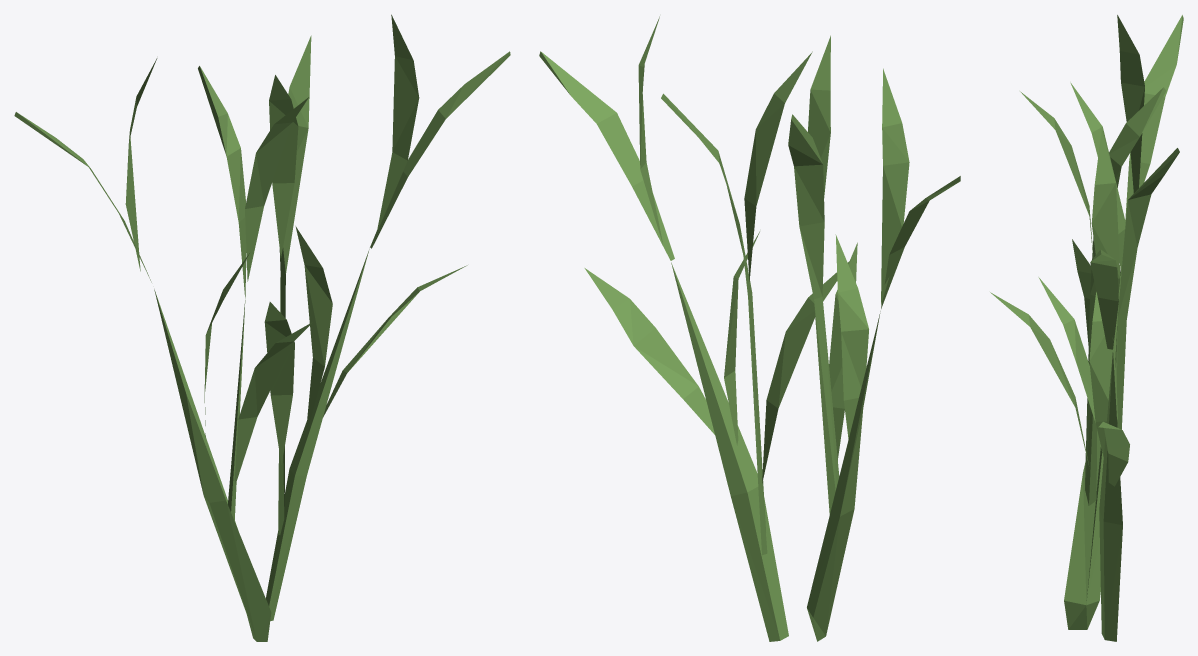
The model's file is plant_rice_1.glb.
3 views of the same model, side by side, from view 1: azimuth 30°, elevation 25°; view 2: azimuth 150°, elevation 25°; view 3: azimuth 270°, elevation 25° (orthographic). The views are drawn at different scales.
Parts seen in each view (by area): view 1: plant_rice_1; view 2: plant_rice_1; view 3: plant_rice_1.
Part boxes in pixels (x1,y1,x2,y2): plant_rice_1: [14, 14, 510, 641]; plant_rice_1: [539, 16, 960, 641]; plant_rice_1: [990, 15, 1183, 641].
Size of the model in its own units: 0.7238 by 0.9 by 0.2747.
